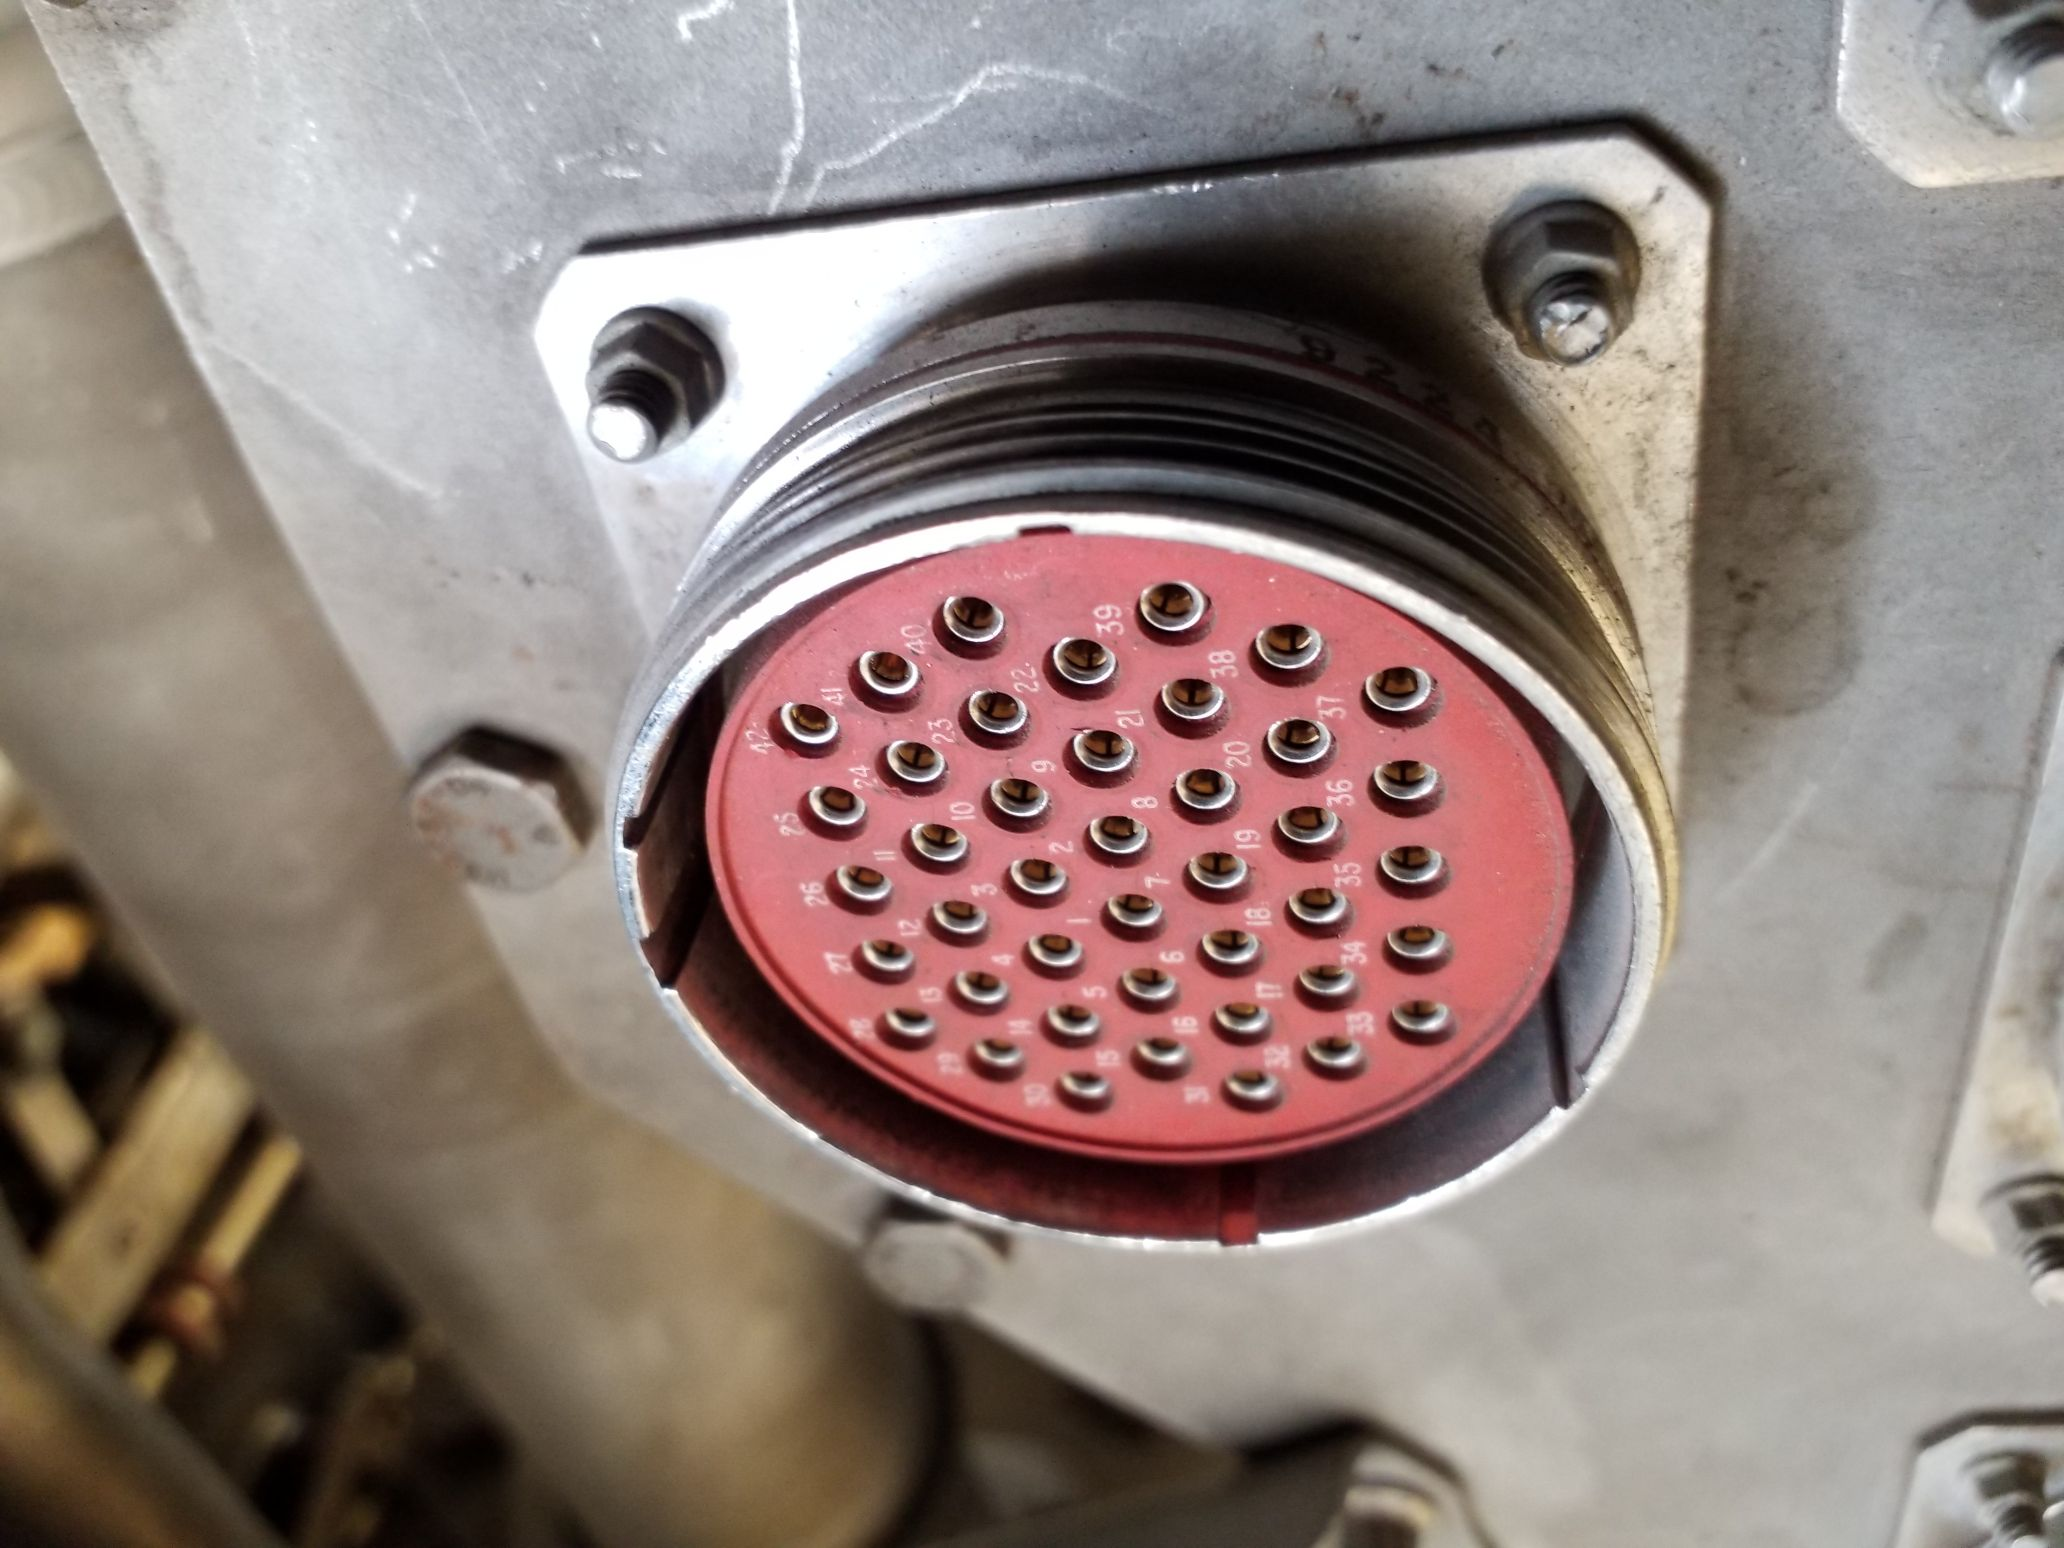inletnumbers: (592, 415, 1705, 1254)
